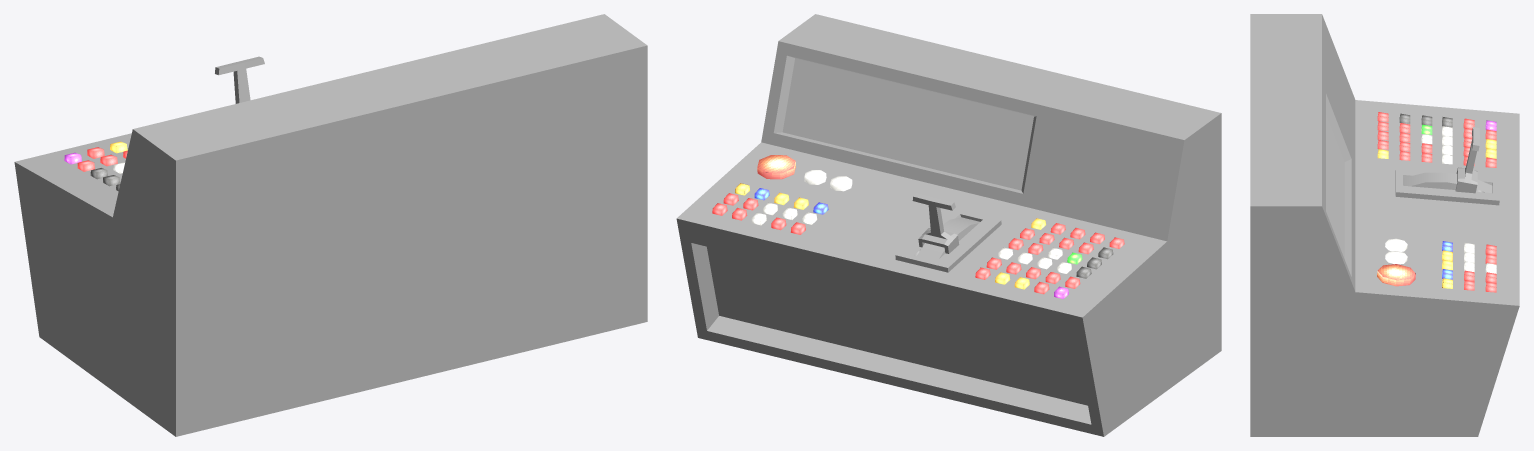
File: SM_PROP_BENCHCONTROL_01.fbx
The picture shows the model from 3 angles, left to right: view 1: azimuth 30°, elevation 25°; view 2: azimuth 150°, elevation 25°; view 3: azimuth 270°, elevation 25°; orthographic projection. The views are drawn at different scales.
Parts seen in each view (by area): view 1: SM_PROP_BENCHCONTROL_01; view 2: SM_PROP_BENCHCONTROL_01; view 3: SM_PROP_BENCHCONTROL_01.
Boxes of the visible parts, left/top/right/bottom form: SM_PROP_BENCHCONTROL_01: left=14, top=14, right=647, bottom=436; SM_PROP_BENCHCONTROL_01: left=676, top=14, right=1221, bottom=436; SM_PROP_BENCHCONTROL_01: left=1250, top=14, right=1519, bottom=436.
Bounding box in the file's own units: 3 × 1.68 × 1.78.
